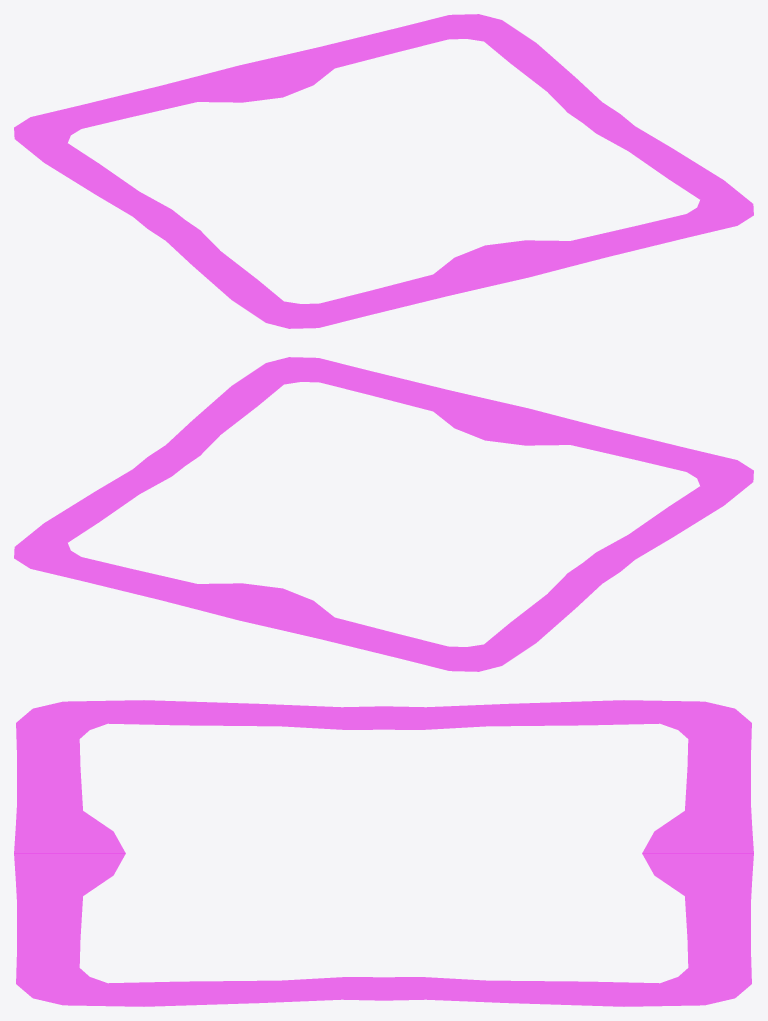
Rendered from achae_gardens_water.glb.
The picture shows the model from 3 angles, top to bottom: view 1: azimuth 30°, elevation 25°; view 2: azimuth 150°, elevation 25°; view 3: azimuth 270°, elevation 25°; orthographic projection. The views are drawn at different scales.
Parts seen in each view (by area): view 1: Cube_003-mesh; view 2: Cube_003-mesh; view 3: Cube_003-mesh.
Part boxes in pixels (bbox=[...]): Cube_003-mesh: bbox=[14, 14, 753, 328]; Cube_003-mesh: bbox=[14, 357, 753, 671]; Cube_003-mesh: bbox=[14, 700, 753, 1006].
Size of the model in its own units: 54.21 by 0 by 55.27.
